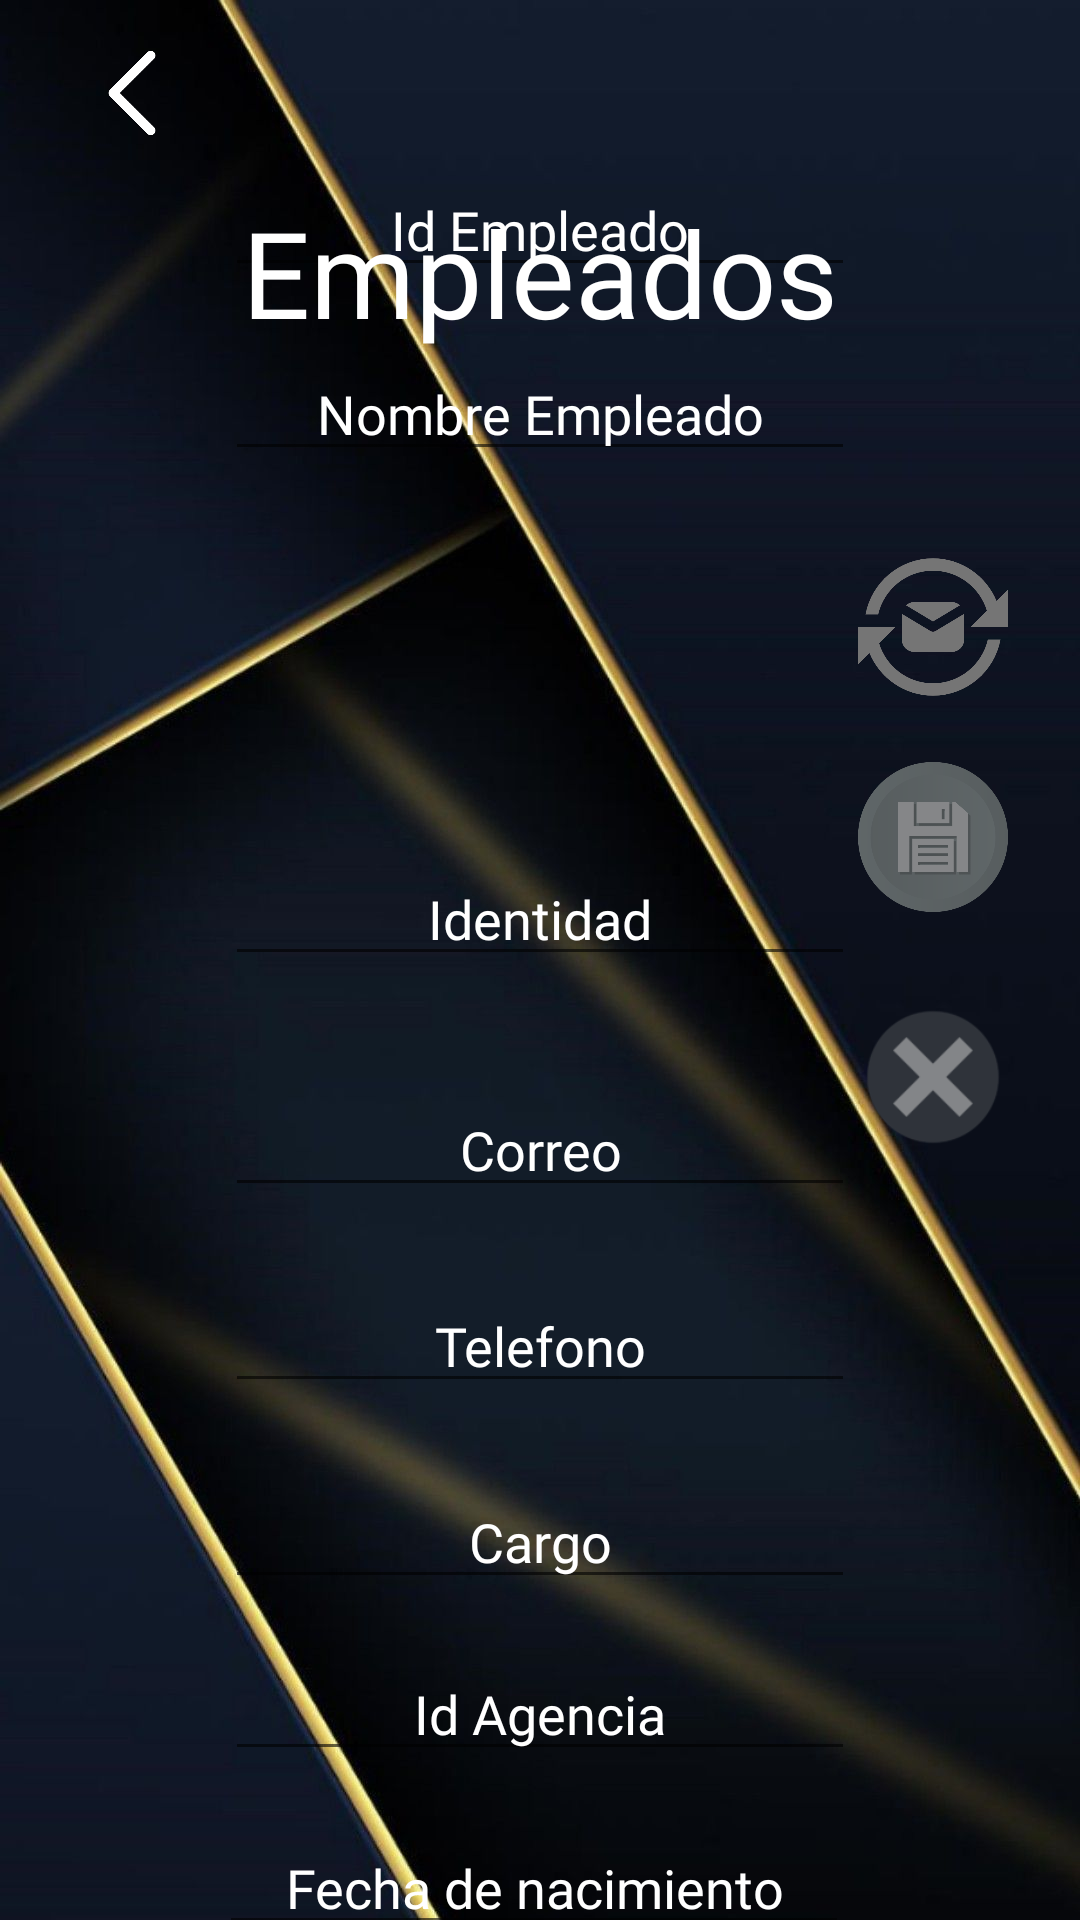

Screen size 1080×1920. Icon name, then its box in pixels as (x1, y1, x2, y2):
actualizar: (858, 558, 1008, 696)
eliminar: (858, 1012, 998, 1152)
guardar: (858, 762, 1008, 912)
